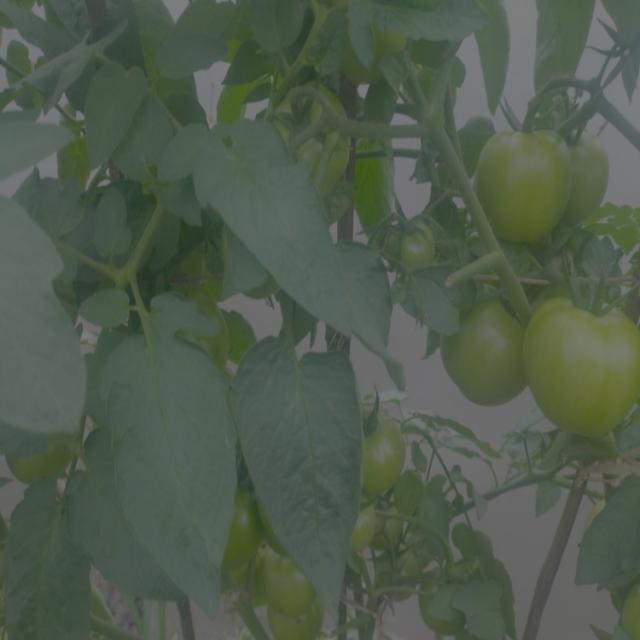tomato: (532, 291, 640, 434), (479, 105, 573, 243), (257, 76, 352, 205), (447, 295, 528, 407), (568, 121, 617, 228), (362, 405, 411, 495), (387, 215, 442, 277), (265, 555, 318, 618), (424, 570, 471, 640), (7, 438, 74, 486), (225, 484, 256, 585), (615, 581, 640, 640), (355, 504, 384, 553), (274, 618, 323, 640), (385, 509, 401, 556)
